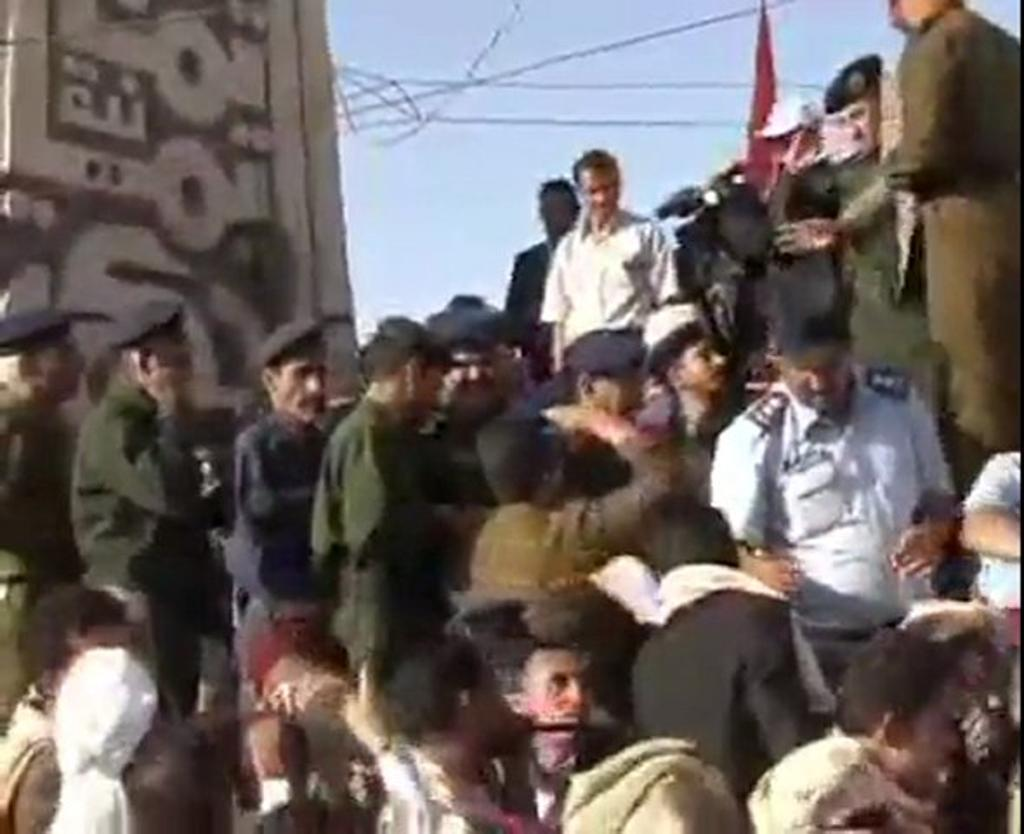face: (895, 687, 964, 796), (532, 653, 595, 738), (786, 342, 846, 410), (275, 349, 330, 421), (446, 344, 496, 411), (36, 337, 86, 400), (676, 339, 730, 393), (836, 95, 882, 158), (402, 361, 444, 426), (595, 377, 642, 435), (149, 329, 195, 386), (580, 170, 621, 218), (767, 546, 802, 596), (773, 119, 809, 167), (884, 1, 937, 29)
